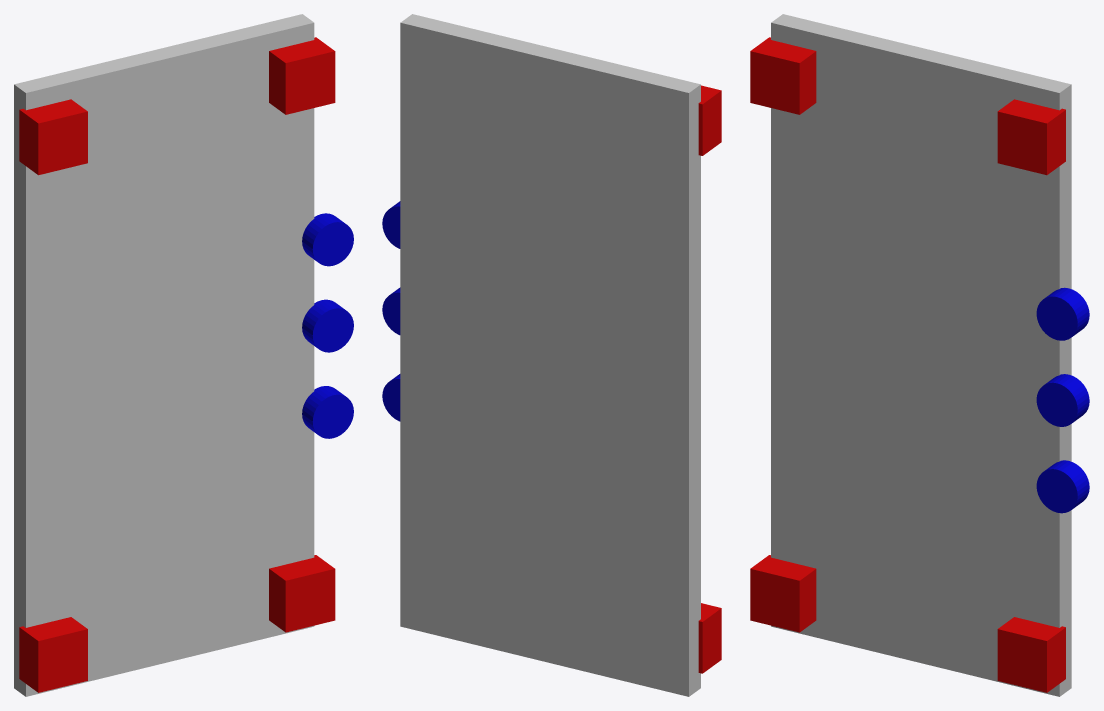
Rendered from coque_personnalisable.glb.
The picture shows the model from 3 angles, left to right: view 1: azimuth 30°, elevation 25°; view 2: azimuth 150°, elevation 25°; view 3: azimuth 330°, elevation 25°; orthographic projection.
Parts seen in each view (by area): view 1: Base, world; view 2: Base, world; view 3: Base, world.
Boxes of the visible parts, bbox=[...] form: Base: bbox=[14, 14, 314, 696]; world: bbox=[19, 37, 353, 692]; Base: bbox=[400, 14, 700, 696]; world: bbox=[382, 85, 721, 673]; Base: bbox=[771, 14, 1071, 696]; world: bbox=[750, 37, 1089, 692].
Size of the model in its own units: 7.8 by 14 by 1.2.
